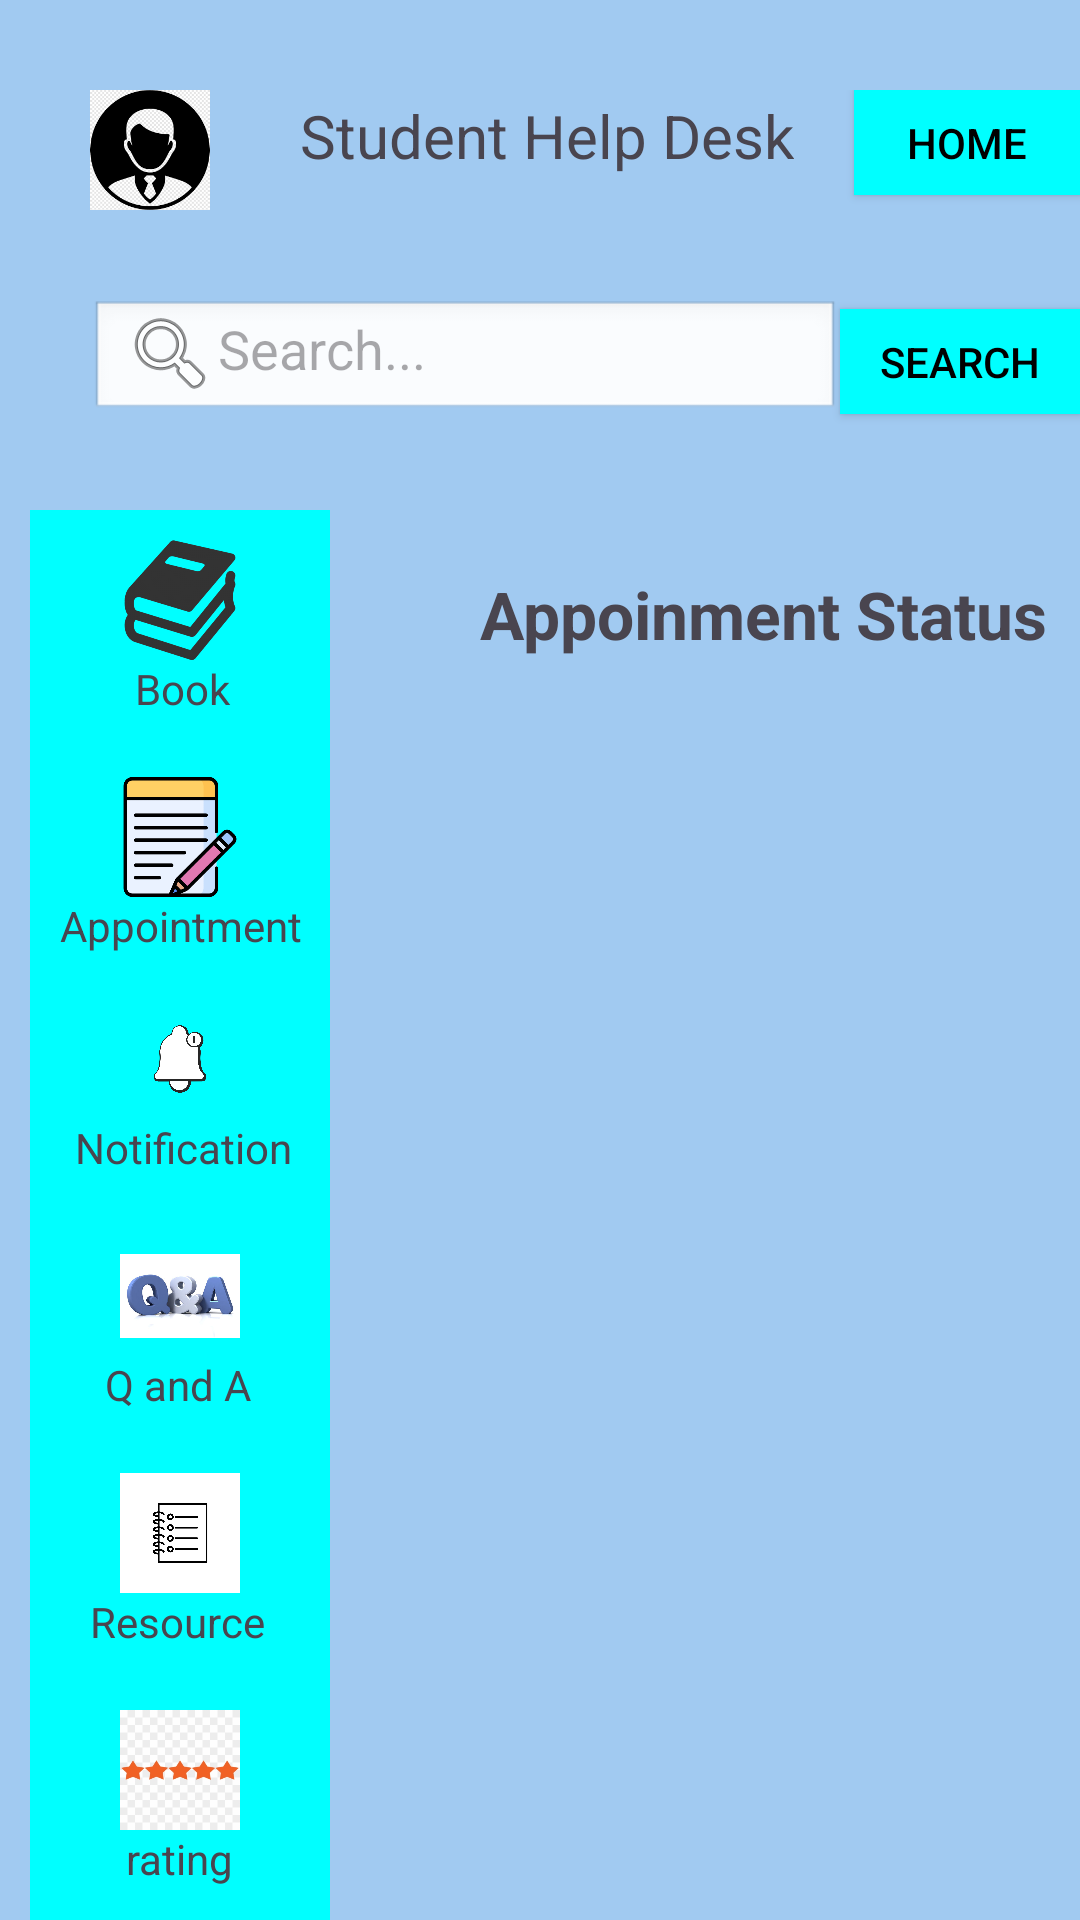

Icon bounding boxes for this 1080 × 1920 phone screenshot, format (x1, y1, x2, y2):
profile: (90, 90, 210, 210)
